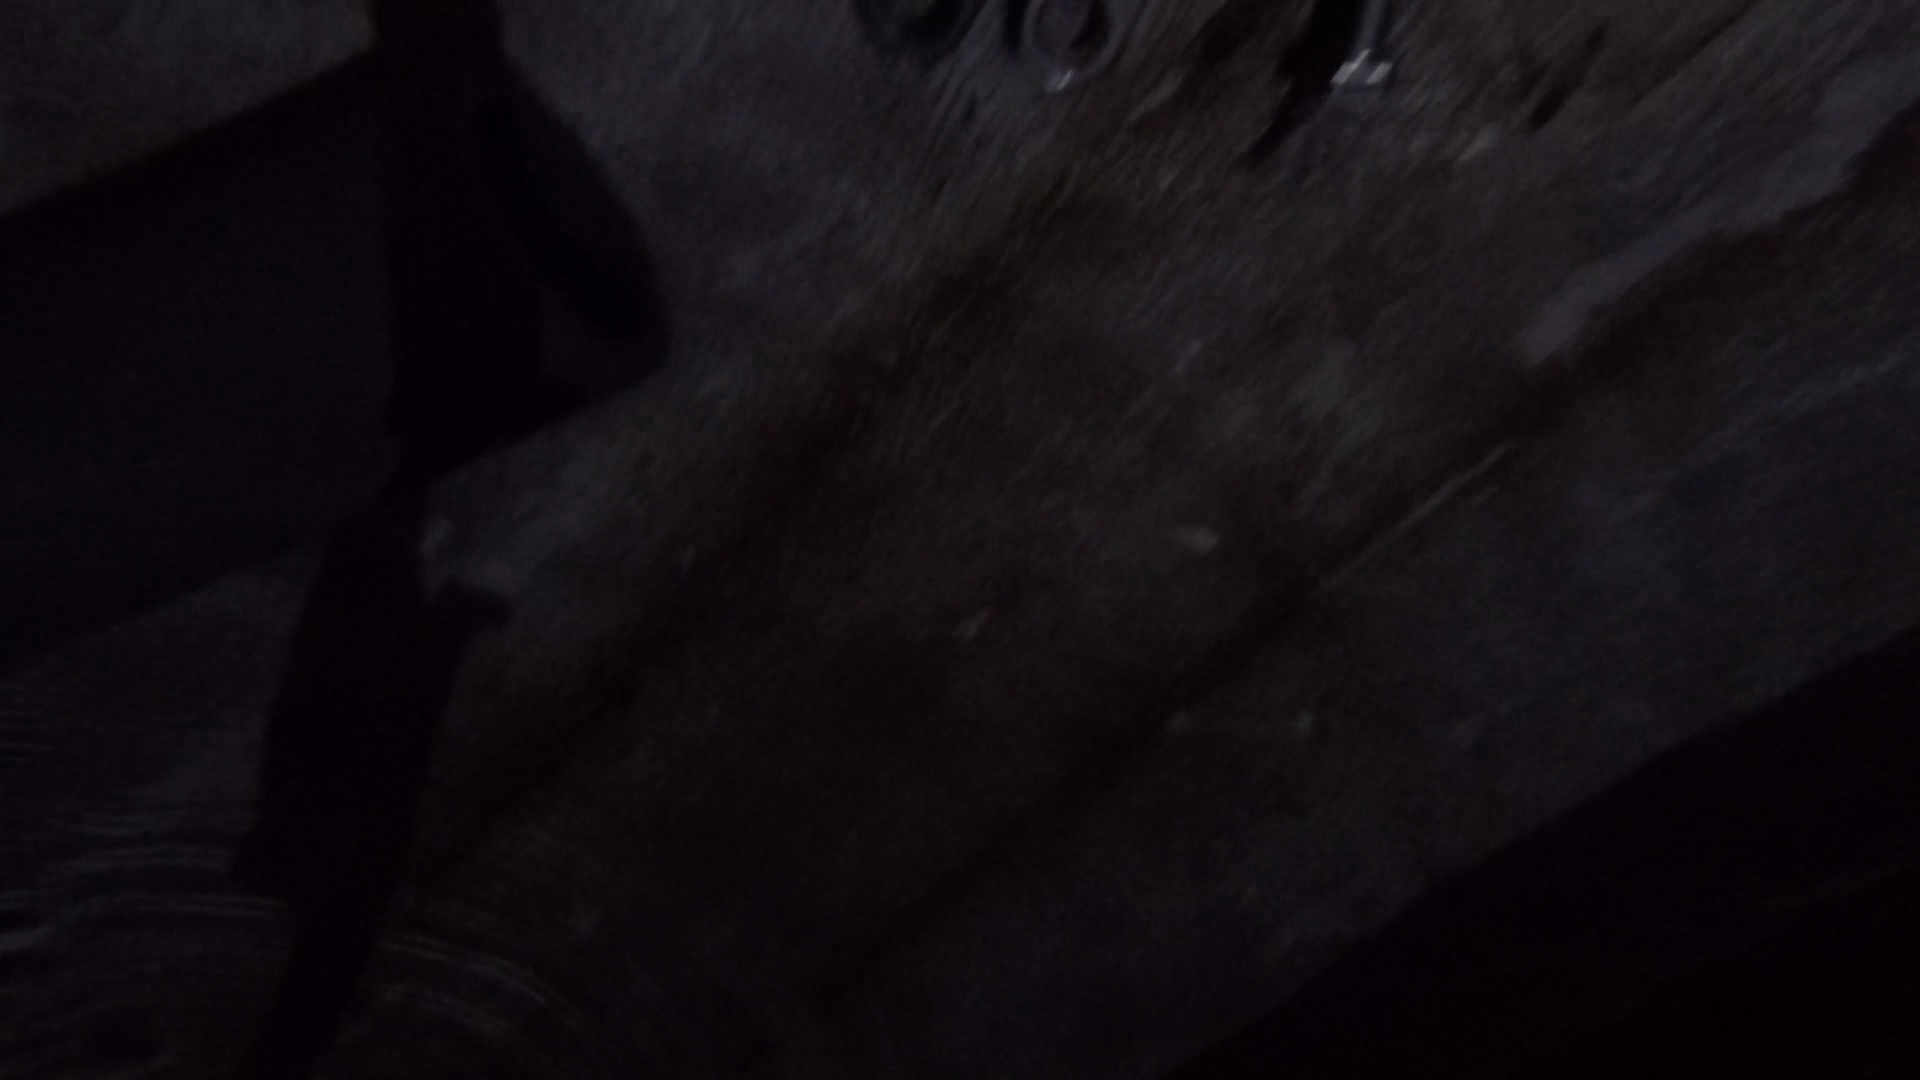bolt: (1324, 1, 1399, 92)
nut: (1007, 1, 1129, 92), (858, 1, 981, 61)
pipe: (1, 24, 676, 658)
